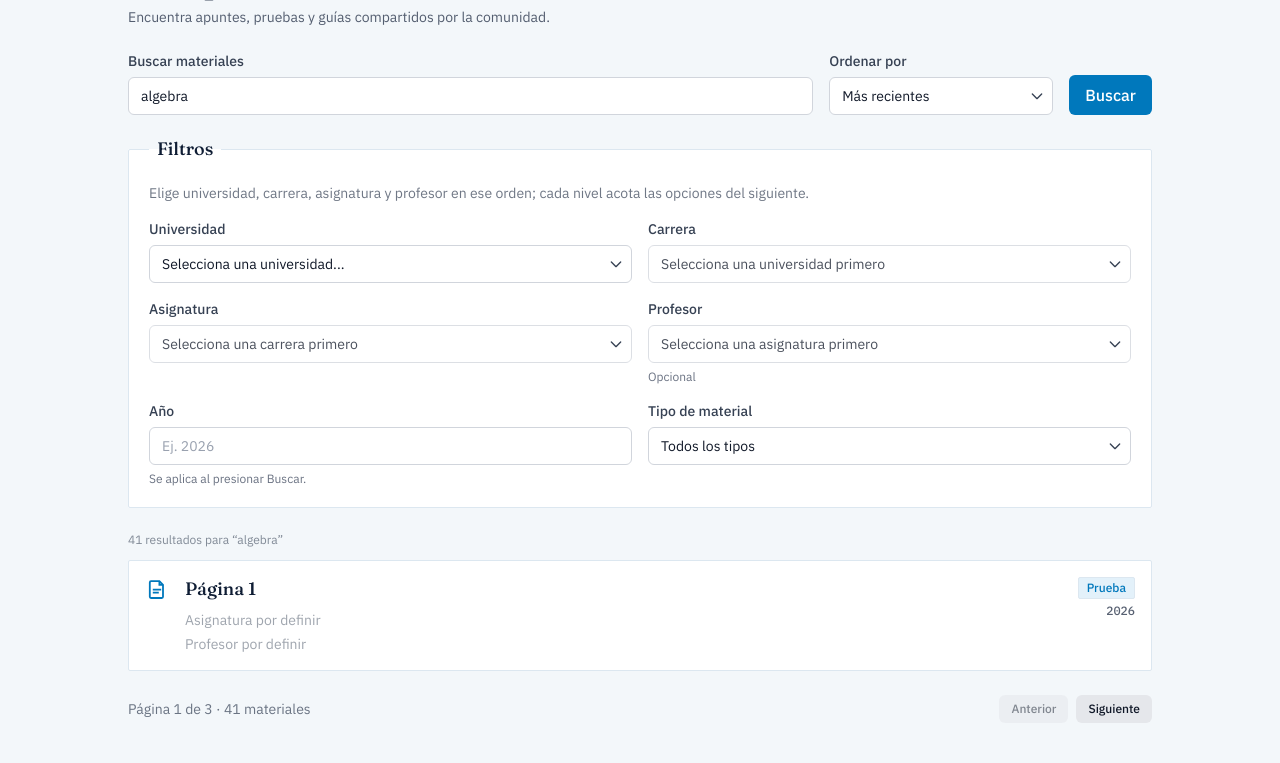
Test: SearchPage › paginación › avanza de página pidiendo la siguiente al backend
(page scrolled)
Expected: the heading "Página 1" is shown, [185, 577, 256, 600]
Click the button "Siguiente" at (1114, 709), box [1076, 695, 1152, 723]
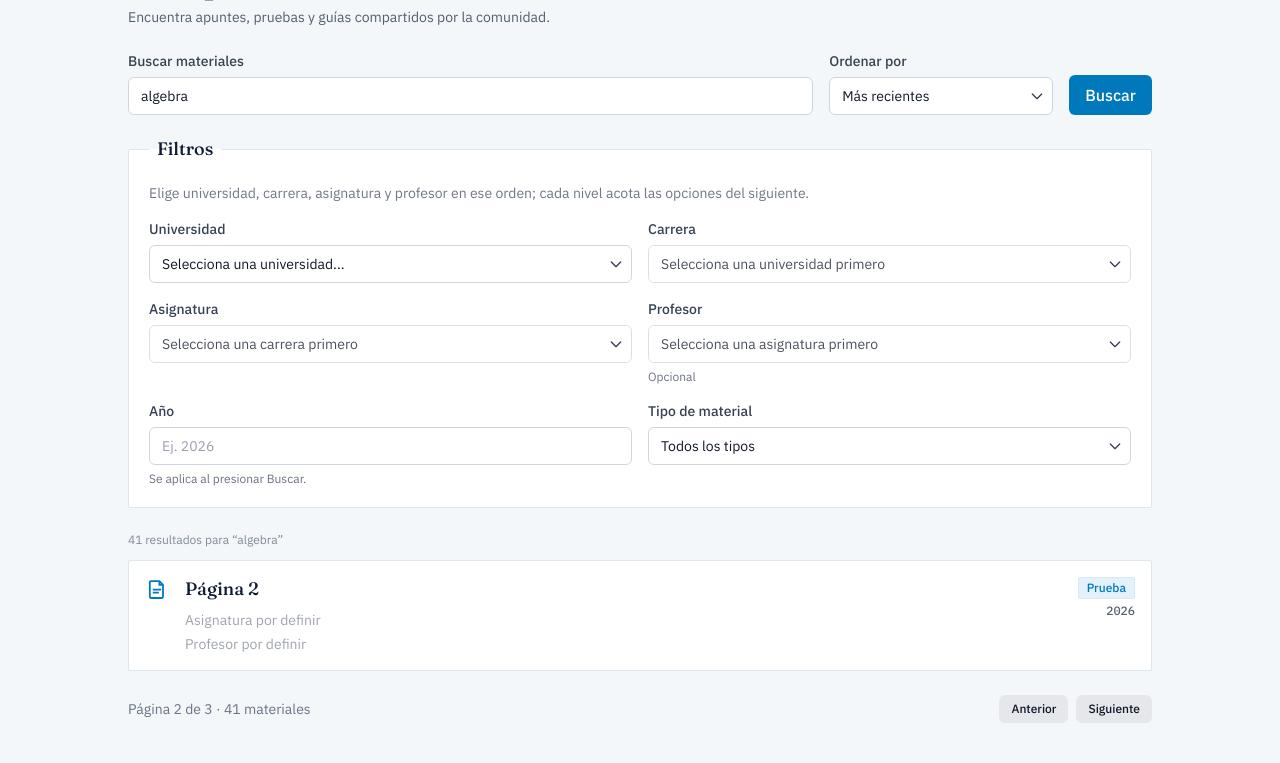
Expected: the heading "Página 2" is shown, [185, 577, 259, 600]
